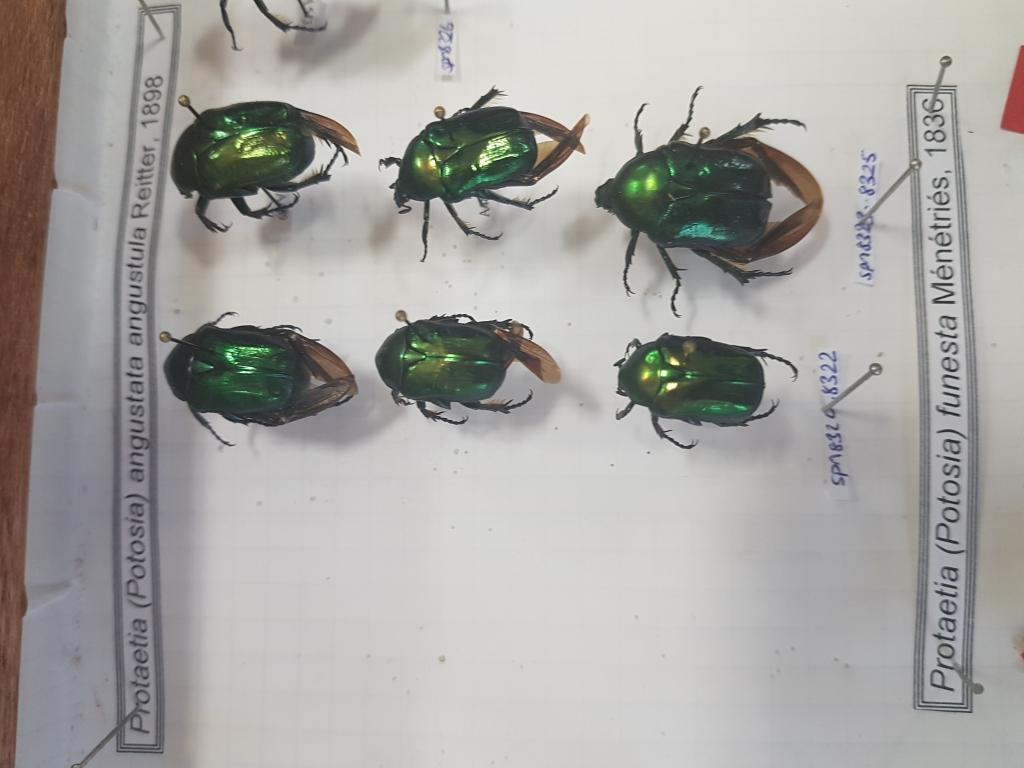Protaetia_angustata_angustata: (595, 74, 839, 323), (381, 83, 594, 227), (151, 306, 354, 457), (598, 328, 814, 460), (379, 299, 568, 432), (176, 95, 363, 227)
